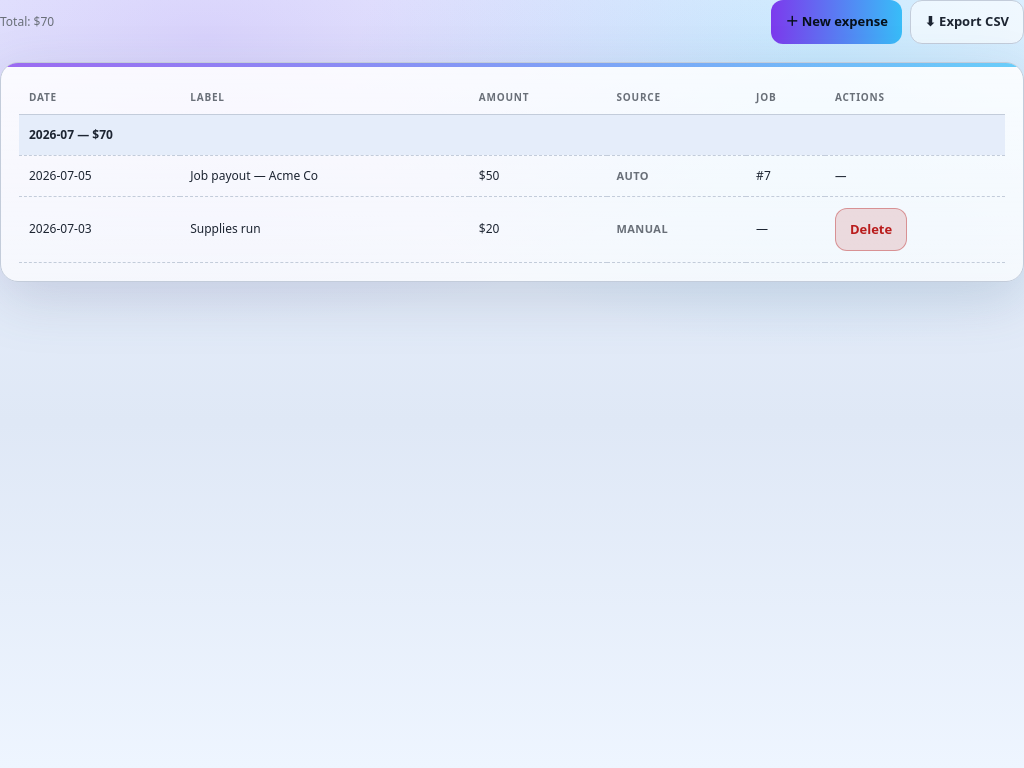
Test: ExpensesSection › shows the inline form error when addExpense fails and keeps the dialog open
Step 1. Click the button "＋ New expense" → (837, 22), box [771,0,902,44]
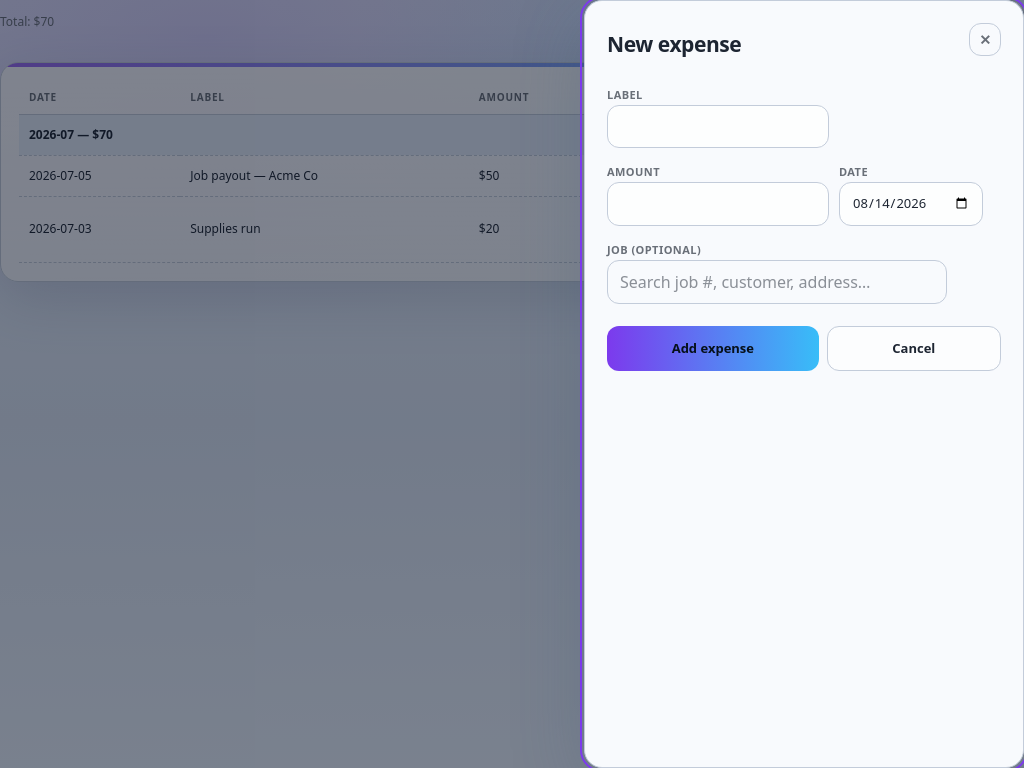
Step 2. Type "Gas" into the field labelled "Label" → (718, 126), box [607,104,829,148]
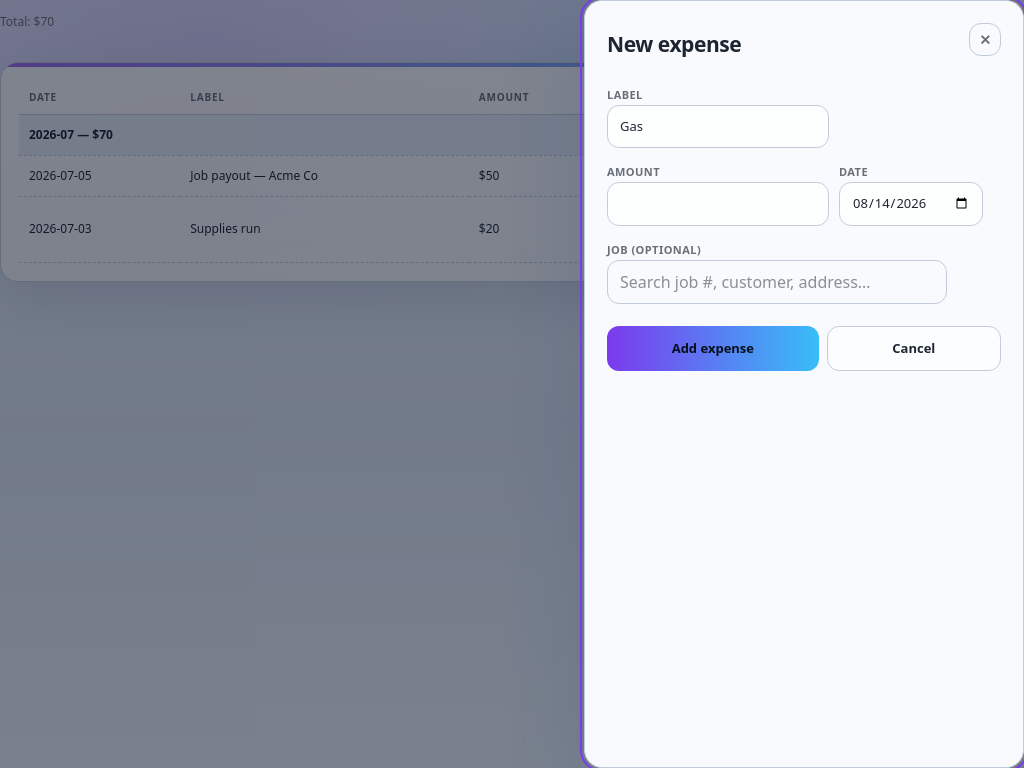
Step 3. Type "12.50" into the number field labelled "Amount" → (718, 204), box [607,182,829,226]
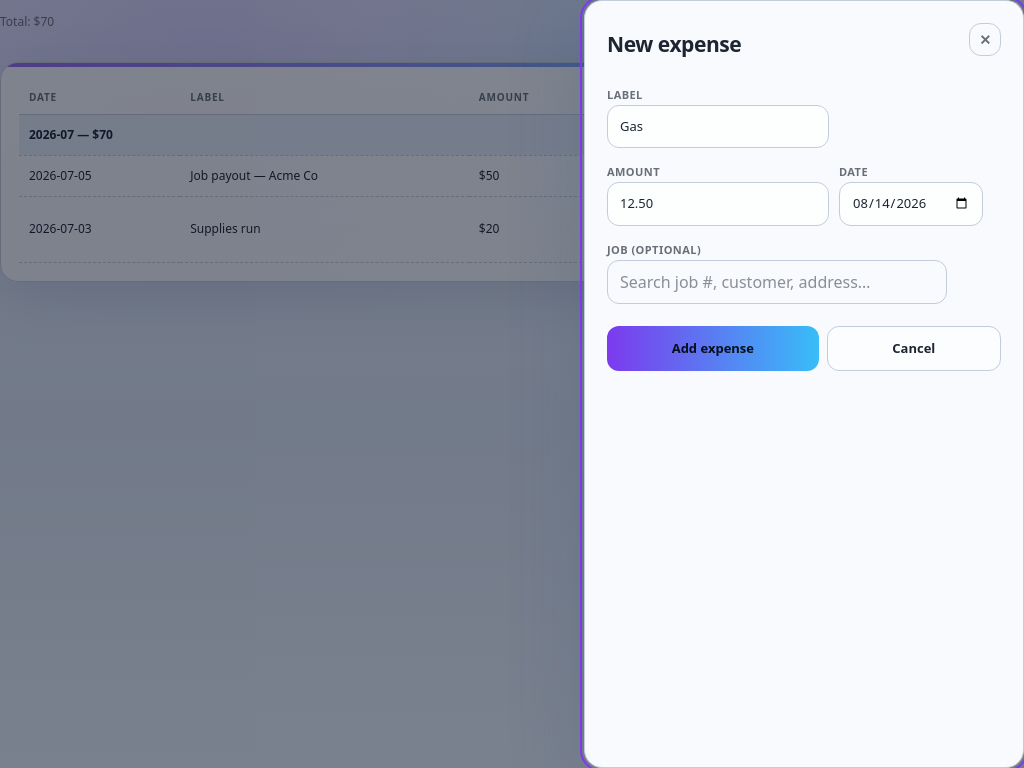
Step 4. Click the button "Add expense" → (713, 348), box [607,326,819,371]
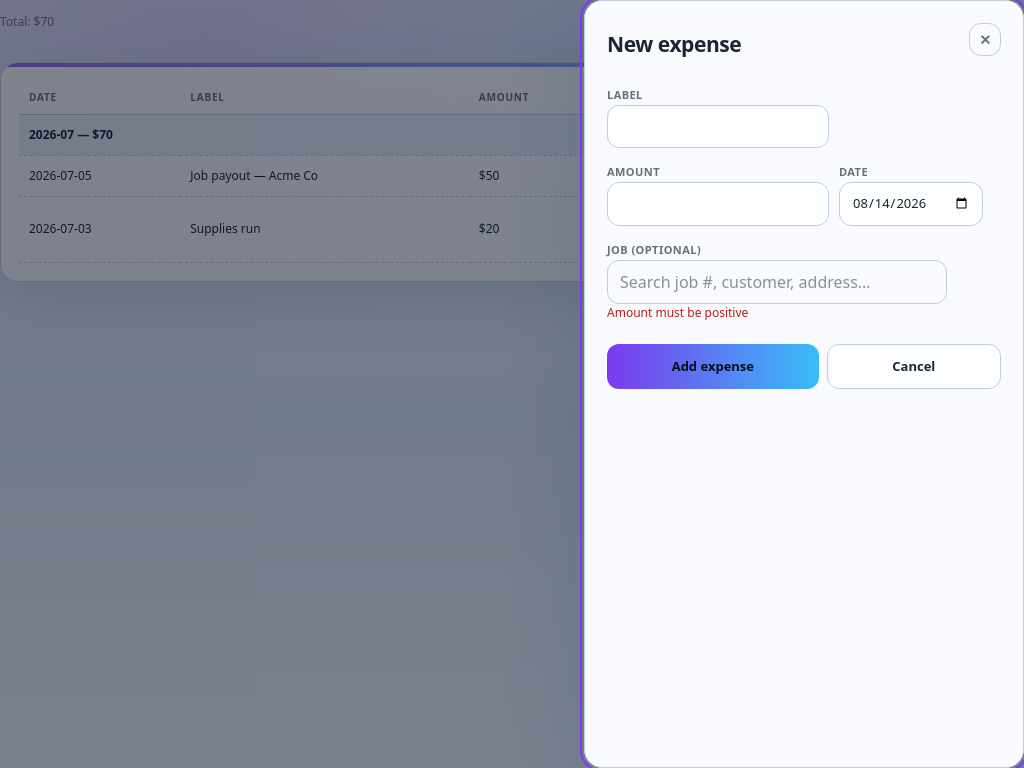
Expected: the dialog is shown, [584,0,1023,767]
Expected: the message reads "Amount must be positive", [607,304,748,320]
